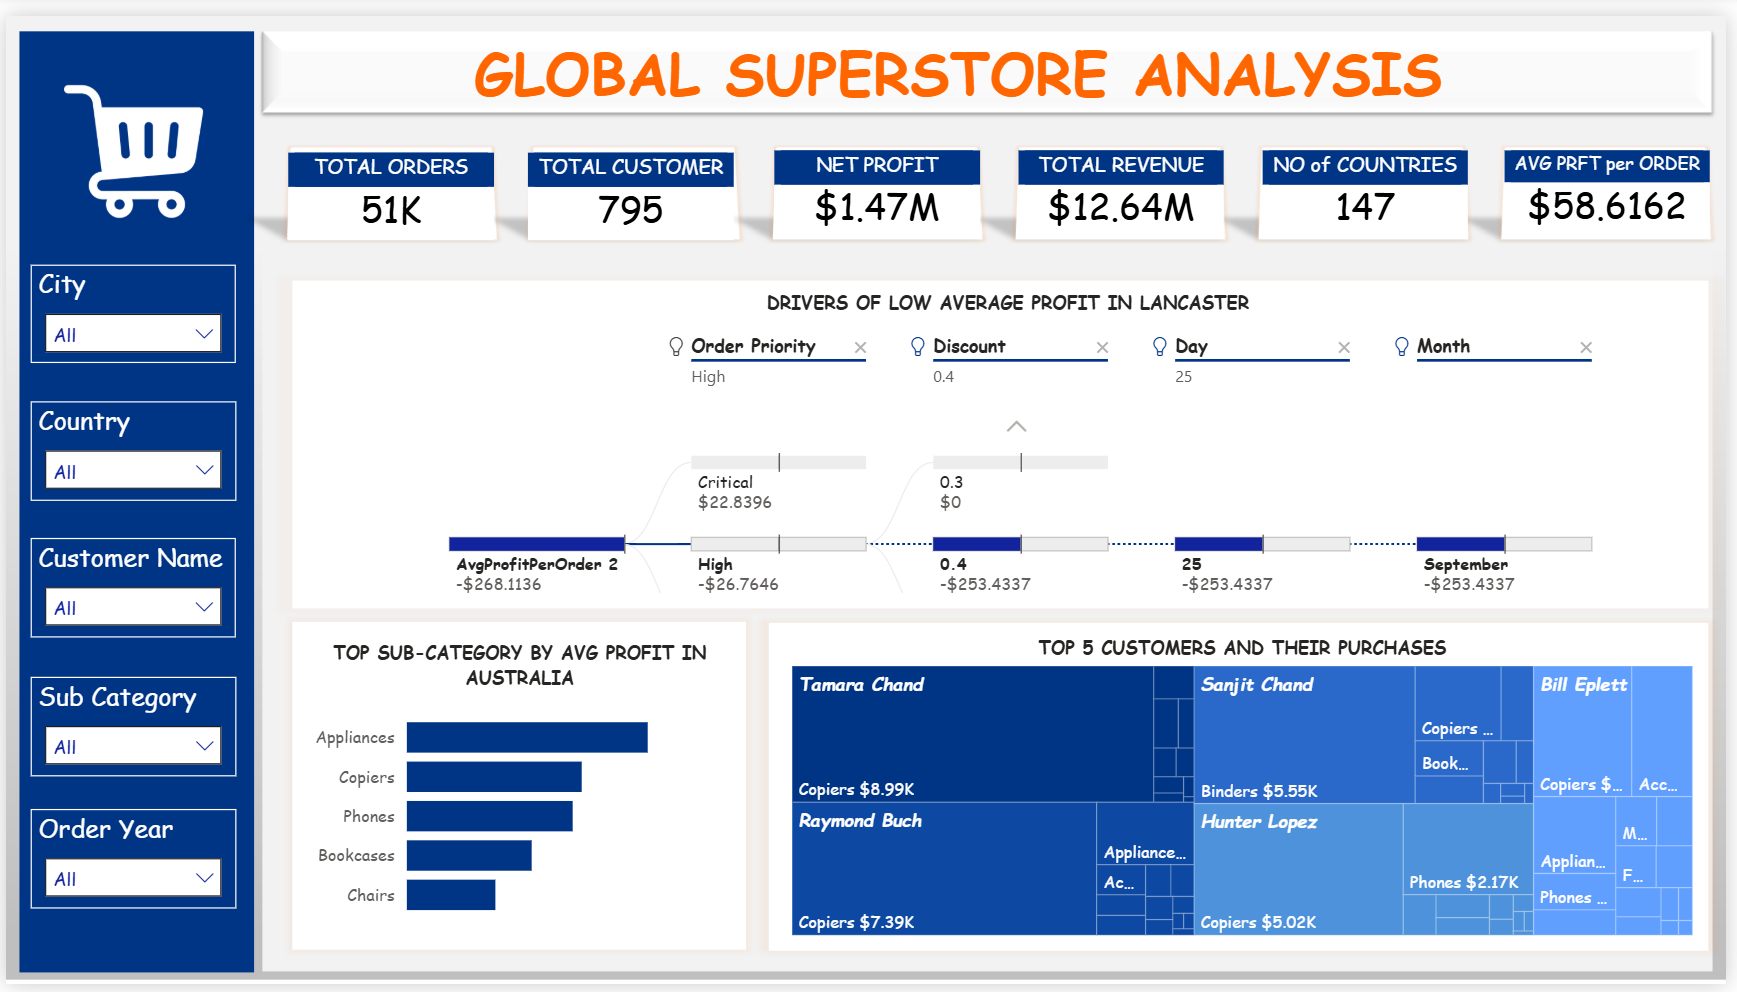

What the dashboard file says about the page in this screenshot:
{"tool":"powerbi","page":{"name":"VISUAL 3","canvas":[1280,720],"ordinal":2},"visuals":[{"type":"textbox","box":[344,7,763,70],"z":0},{"type":"card","title":"TOTAL ORDERS","fields":{"Values":["Measure_Table.Total_Orders"]},"box":[210,101,153,65],"z":1000},{"type":"card","title":"TOTAL CUSTOMER","fields":{"Values":["Measure_Table.Total Customers"]},"box":[388,101,153,65],"z":2000},{"type":"card","title":"NET PROFIT","fields":{"Values":["Measure_Table.Total_Profit"]},"box":[572.1,100,152.9,65],"z":3000},{"type":"card","title":"TOTAL REVENUE","fields":{"Values":["Measure_Table.Total Sales"]},"box":[753.4,100.7,152.8,65.2],"z":4000},{"type":"card","title":"NO of COUNTRIES","fields":{"Values":["Measure_Table.Total Countries"]},"box":[935.2,100,152.8,65.2],"z":5000},{"type":"card","title":"AVG PRFT per ORDER","fields":{"Values":["Measure_Table.AvgProfitPerOrder 2"]},"box":[1114.8,100,152.8,65.2],"z":6000},{"type":"slicer","title":"City","fields":{"Values":["Orders.City"]},"box":[18.6,185.6,152.6,73.2],"z":7000},{"type":"slicer","title":"Country","fields":{"Values":["Orders.Country"]},"box":[18.2,285.9,152.9,74.1],"z":8000},{"type":"slicer","title":"Customer Name","fields":{"Values":["Orders.Customer Name"]},"box":[18.6,388.8,152.6,74.2],"z":9000},{"type":"slicer","title":"Sub Category","fields":{"Values":["Orders.Sub-Category"]},"box":[18.2,491.2,152.9,74.1],"z":10000},{"type":"slicer","title":"Order Year","fields":{"Values":["Orders.Order- Year"]},"box":[18.2,590,152.9,74.1],"z":11000},{"type":"image","box":[37.1,41.3,116.5,118.6],"z":12000},{"type":"decompositionTreeVisual","title":"DRIVERS OF LOW AVERAGE PROFIT IN LANCASTER","fields":{"Analyze":["Measure_Table.AvgProfitPerOrder 2"],"ExplainBy":["Orders.Order Priority","Orders.Discount","Date.Date.Variation.Date Hierarchy.Day","Date.Date.Variation.Date Hierarchy.Month","Orders.Category","Date.Date.Variation.Date Hierarchy.Year","Orders.Sales","Orders.Shipping Cost","Orders.Segment","Orders.Sub-Category","Orders.Product Name","Returns_Table.Returned"]},"box":[300.2,204.1,891.1,231.4],"z":13000},{"type":"barChart","title":"TOP SUB-CATEGORY BY AVG PROFIT IN AUSTRALIA","fields":{"Category":["Orders.Sub-Category"],"Y":["Measure_Table.AvgProfitPerOrder 2"]},"box":[223.1,464,318,219.5],"z":14000},{"type":"treemap","title":"TOP 5 CUSTOMERS AND THEIR PURCHASES","fields":{"Group":["Orders.Customer Name"],"Details":["Orders.Sub-Category"],"Values":["Measure_Table.Total_Profit"]},"box":[580.2,459.2,679.9,229],"z":15000}]}

Visuals, with their boxes in screenshot pixels (x1, y1, x2, y2), scaled from the page's 1280x720 canvas onto the 1737x992 screenshot:
textbox: left=467, top=10, right=1502, bottom=106
"TOTAL ORDERS" card: left=285, top=139, right=493, bottom=229
"TOTAL CUSTOMER" card: left=527, top=139, right=734, bottom=229
"NET PROFIT" card: left=776, top=138, right=984, bottom=227
"TOTAL REVENUE" card: left=1022, top=139, right=1230, bottom=229
"NO of COUNTRIES" card: left=1269, top=138, right=1476, bottom=228
"AVG PRFT per ORDER" card: left=1513, top=138, right=1720, bottom=228
"City" slicer: left=25, top=256, right=232, bottom=357
"Country" slicer: left=25, top=394, right=232, bottom=496
"Customer Name" slicer: left=25, top=536, right=232, bottom=638
"Sub Category" slicer: left=25, top=677, right=232, bottom=779
"Order Year" slicer: left=25, top=813, right=232, bottom=915
image: left=50, top=57, right=208, bottom=220
"DRIVERS OF LOW AVERAGE PROFIT IN LANCASTER" decompositionTreeVisual: left=407, top=281, right=1617, bottom=600
"TOP SUB-CATEGORY BY AVG PROFIT IN AUSTRALIA" barChart: left=303, top=639, right=734, bottom=942
"TOP 5 CUSTOMERS AND THEIR PURCHASES" treemap: left=787, top=633, right=1710, bottom=948
